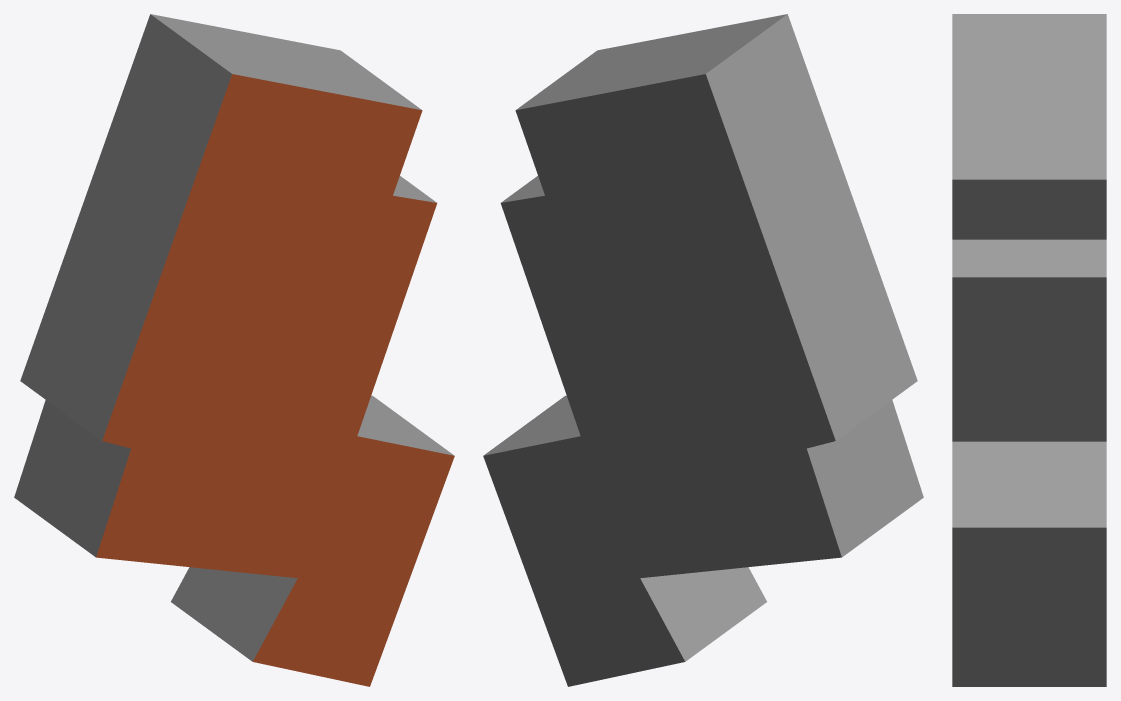
Rendered from construction_1891_assumed_A_Casa_h6m.obj.
The picture shows the model from 3 angles, left to right: view 1: azimuth 30°, elevation 25°; view 2: azimuth 150°, elevation 25°; view 3: azimuth 270°, elevation 25°; orthographic projection. The views are drawn at different scales.
Parts seen in each view (by area): view 1: construction_1891_assumed_A_Casa; view 2: construction_1891_assumed_A_Casa; view 3: construction_1891_assumed_A_Casa.
Boxes of the visible parts, x1,y1,x2,y2 form: construction_1891_assumed_A_Casa: (14, 14, 454, 686); construction_1891_assumed_A_Casa: (483, 14, 923, 686); construction_1891_assumed_A_Casa: (952, 14, 1106, 686).
Size of the model in its own units: 15.16 by 26.11 by 6.
